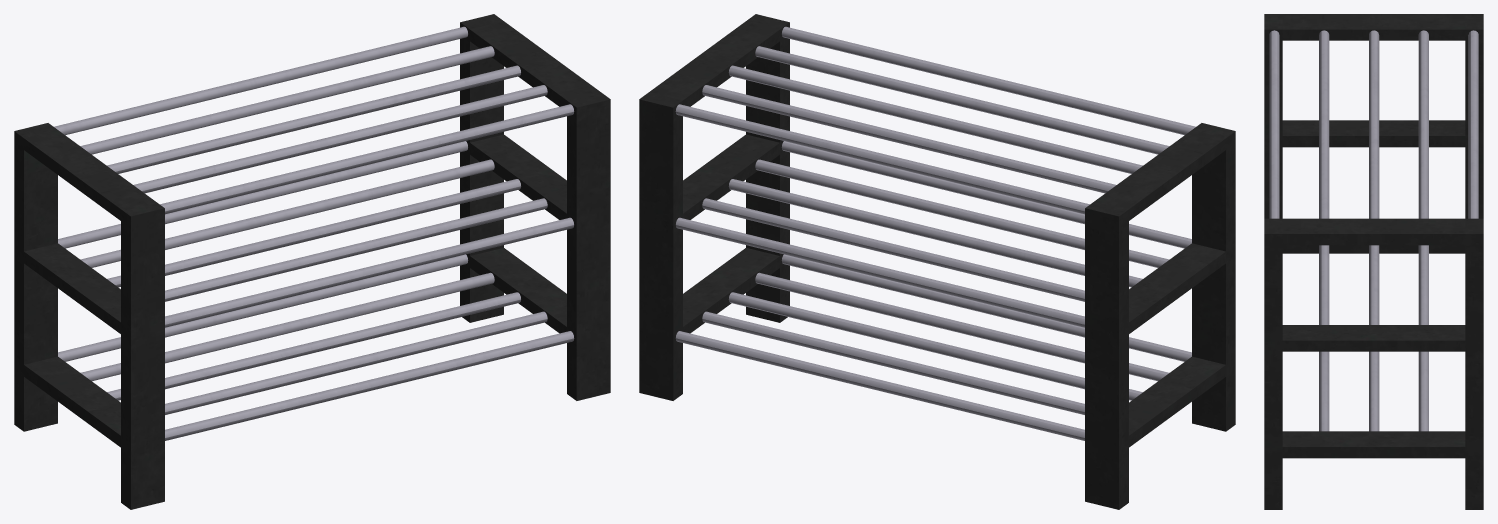
File: shoe_cabinet_metal_rack_janstano.glb
The picture shows the model from 3 angles, left to right: view 1: azimuth 30°, elevation 25°; view 2: azimuth 150°, elevation 25°; view 3: azimuth 270°, elevation 25°; orthographic projection. The views are drawn at different scales.
Parts seen in each view (by area): view 1: Object_6, Object_4; view 2: Object_6, Object_4; view 3: Object_4, Object_6.
Boxes of the visible parts, box(x1,y1,x2,y2) form: Object_6: box(54, 26, 574, 440); Object_4: box(14, 14, 610, 509); Object_6: box(675, 26, 1195, 440); Object_4: box(639, 14, 1235, 509); Object_4: box(1264, 14, 1483, 509); Object_6: box(1269, 30, 1478, 431).
Bounding box in the file's own units: 0.8465 × 0.4946 × 0.3563.
2 materials, 2 textured.
